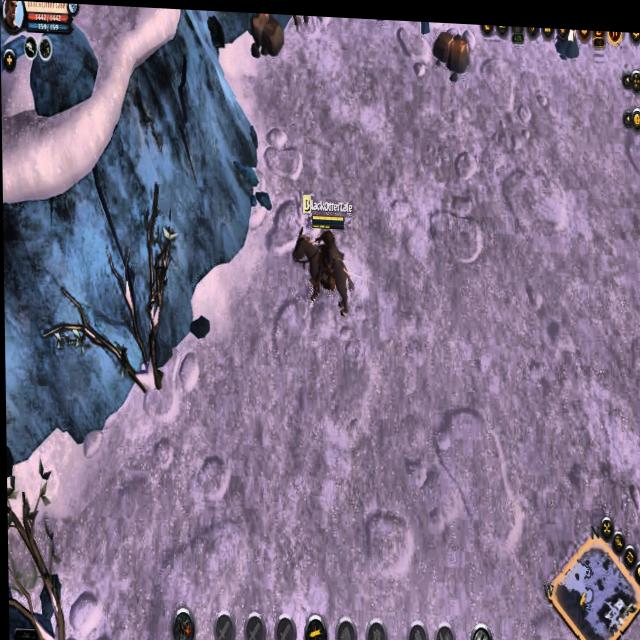copperore: (556, 23, 582, 55)
limestone: (430, 20, 472, 76), (248, 10, 286, 57)
